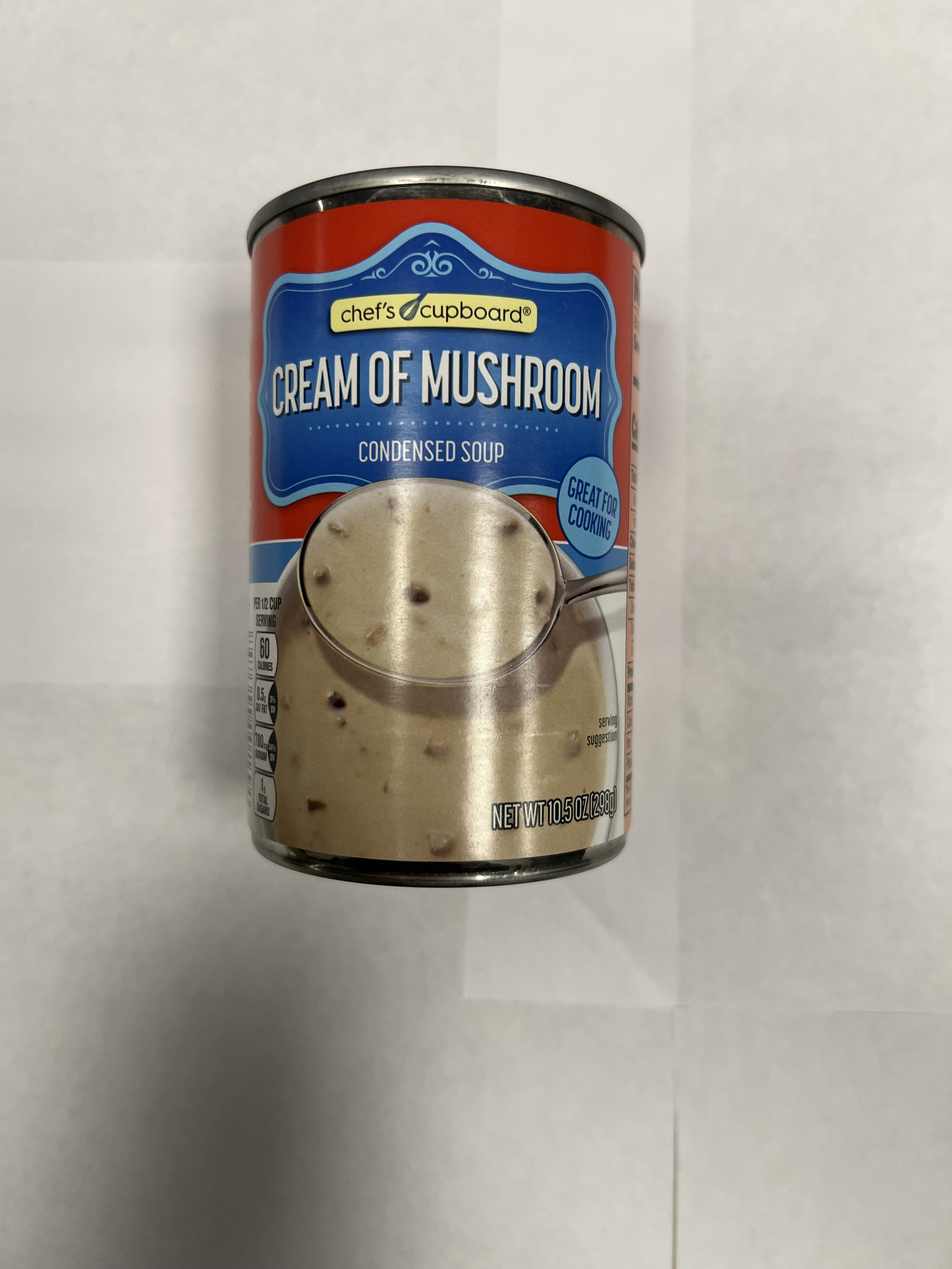packaged: (238, 159, 652, 891)
